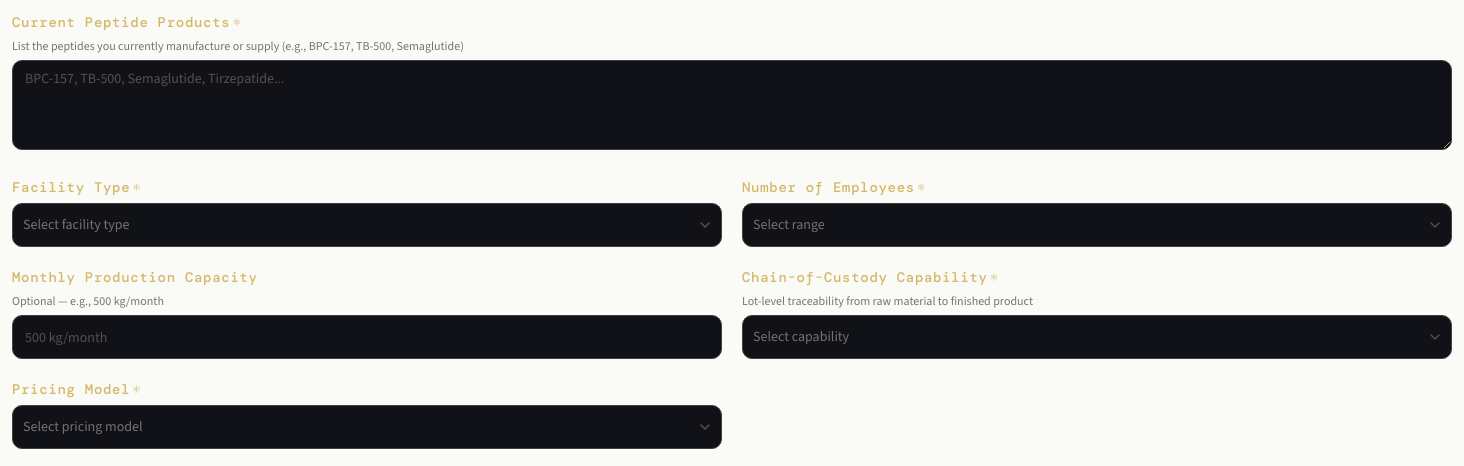
IntakeFields › renders the textarea and selects for step 2, and a select pick is stored
This screenshot has width=1464, height=466.
Step 1. Click the dropdown labelled "Select facility type" → (76,224), box [12,203,722,247]
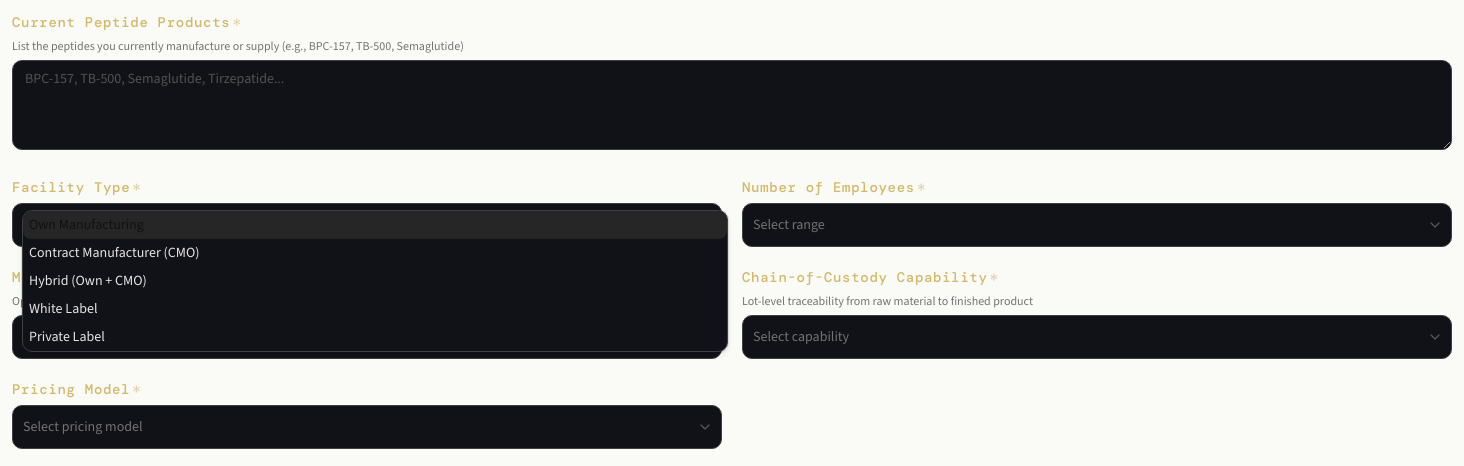
Step 2. Click the option "White Label" → (63,308), box [29,299,98,318]
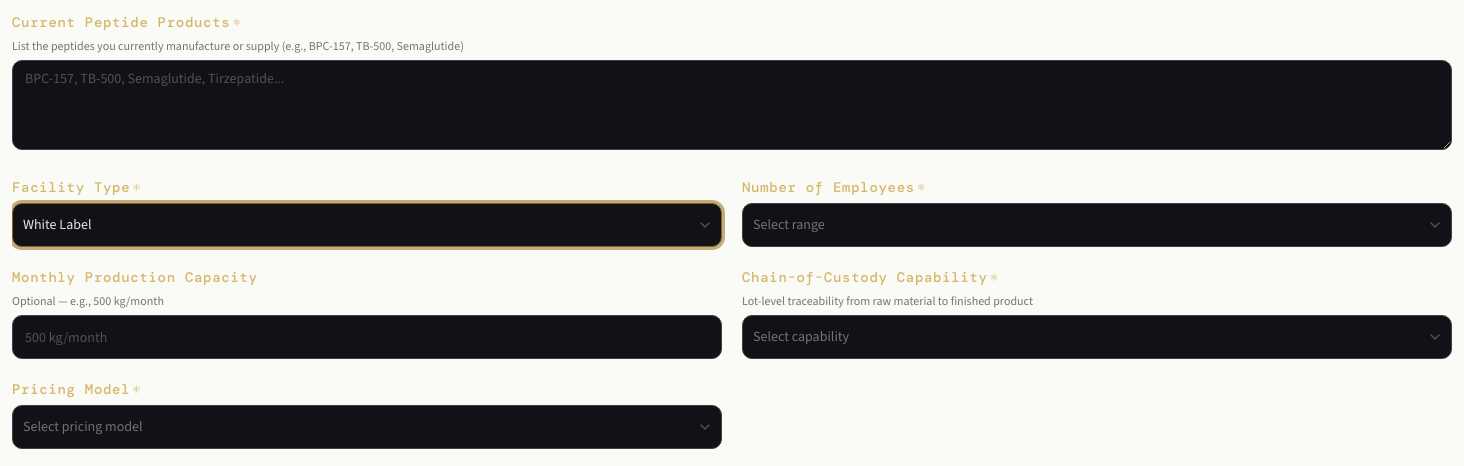
Check: the text "White Label" is shown, box [23,215,92,235]
Check: the dropdown named "Facility Type" reads "White Label", box [12,203,722,247]
